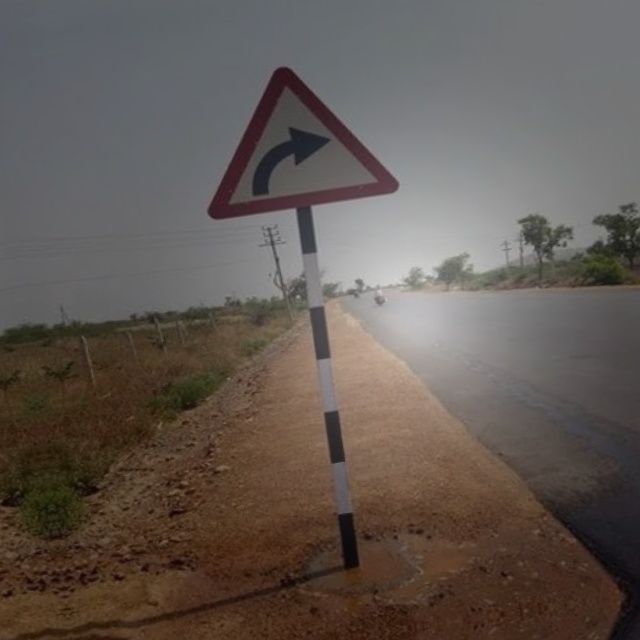Right_Hand_Curve: (188, 53, 394, 218)
